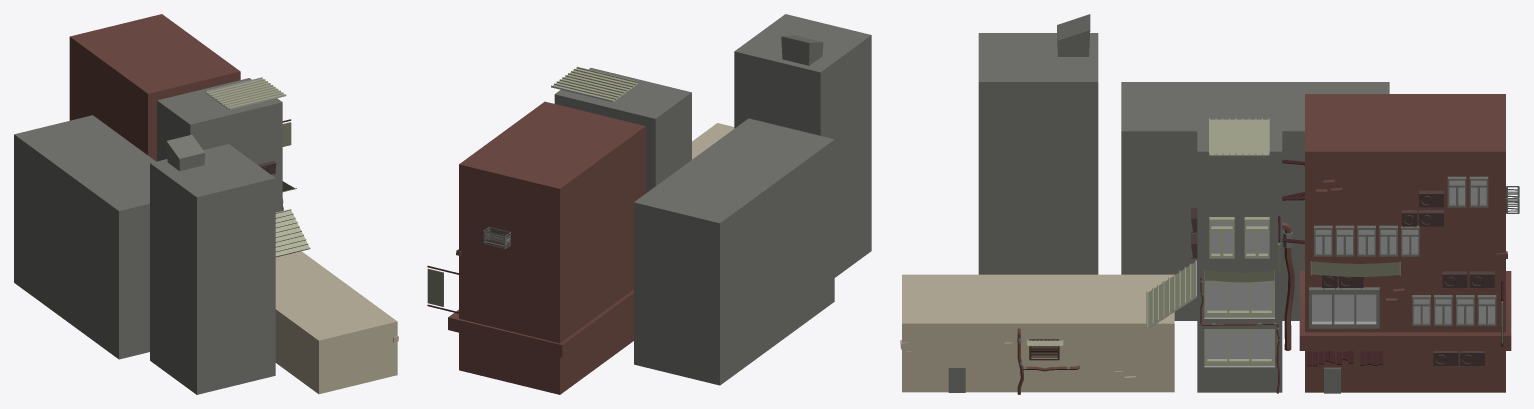
Rendered from APARTMENT_otherbuildings1.fbx.
3 renders of one model, left to right at view 1: azimuth 30°, elevation 25°; view 2: azimuth 150°, elevation 25°; view 3: azimuth 270°, elevation 25°, orthographic. The views are drawn at different scales.
Parts seen in each view (by area): view 1: polySurface1099; view 2: polySurface1099; view 3: polySurface1099.
Part boxes in pixels (bbox=[...]): polySurface1099: bbox=[14, 14, 398, 394]; polySurface1099: bbox=[427, 14, 871, 394]; polySurface1099: bbox=[900, 14, 1519, 394].
Bounding box in the file's own units: 106 × 95.48 × 191.
